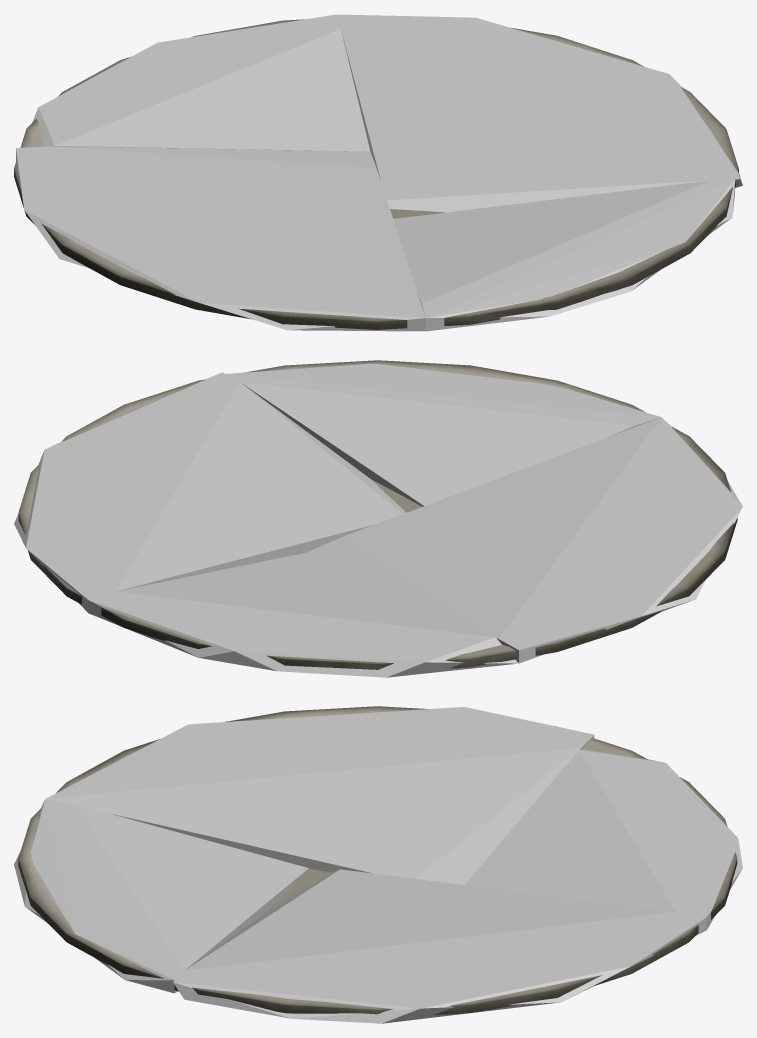
Rendered from SM_Plate.fbx.
3 renders of one model, top to bottom at view 1: azimuth 30°, elevation 25°; view 2: azimuth 150°, elevation 25°; view 3: azimuth 270°, elevation 25°, orthographic.
Visible parts, largest first — view 1: SM_Plate_ConvexHulls, SM_Plate; view 2: SM_Plate_ConvexHulls, SM_Plate; view 3: SM_Plate_ConvexHulls, SM_Plate.
Part boxes in pixels (x1,y1,x2,y2): SM_Plate_ConvexHulls: [16, 14, 742, 331]; SM_Plate: [14, 19, 738, 329]; SM_Plate_ConvexHulls: [14, 363, 742, 677]; SM_Plate: [18, 360, 737, 669]; SM_Plate_ConvexHulls: [14, 707, 742, 1023]; SM_Plate: [18, 706, 737, 1015].
Size of the model in its own units: 35.46 by 35.41 by 2.12.
2 materials, 1 textured.
